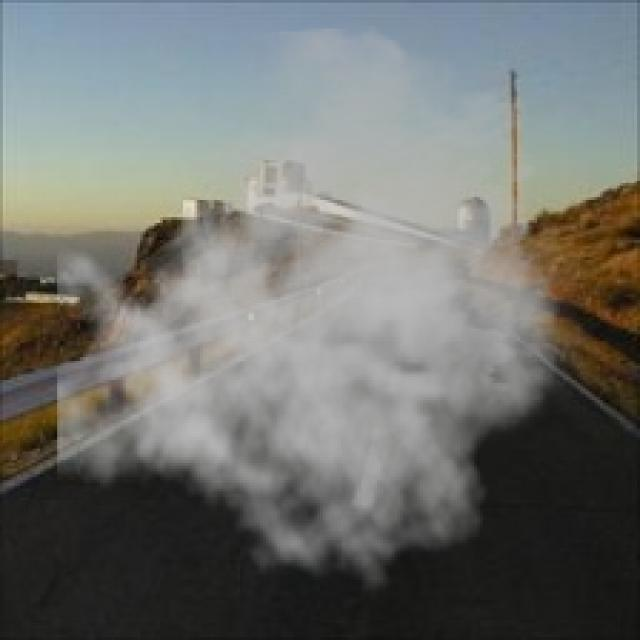smoke: (57, 26, 612, 594)
